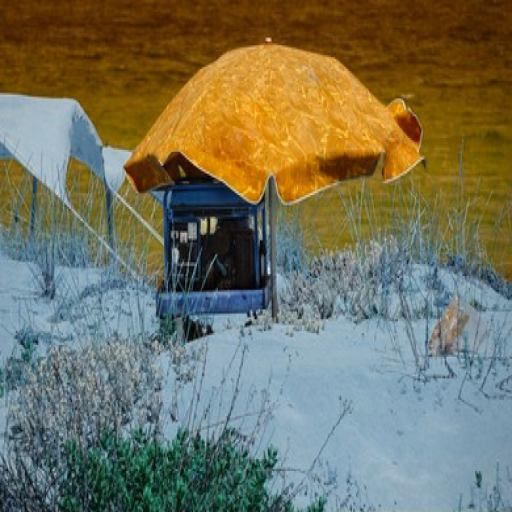portable_generator: (159, 176, 273, 314)
